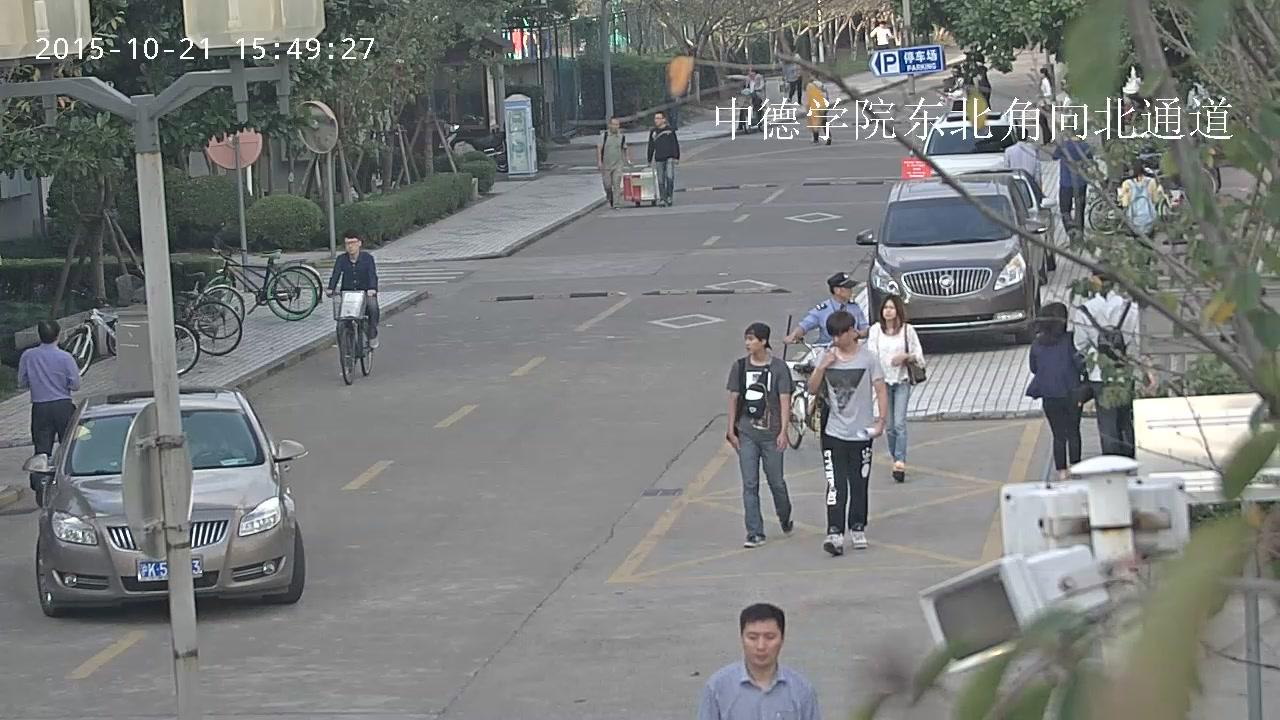face: (743, 617, 780, 666), (744, 328, 760, 353), (832, 330, 849, 349), (882, 298, 896, 319), (344, 236, 358, 253), (839, 286, 853, 299), (654, 113, 662, 126), (611, 120, 619, 132), (951, 68, 959, 75), (1188, 87, 1194, 95), (808, 70, 812, 81), (750, 71, 755, 77), (880, 23, 885, 27), (1039, 72, 1043, 77)
